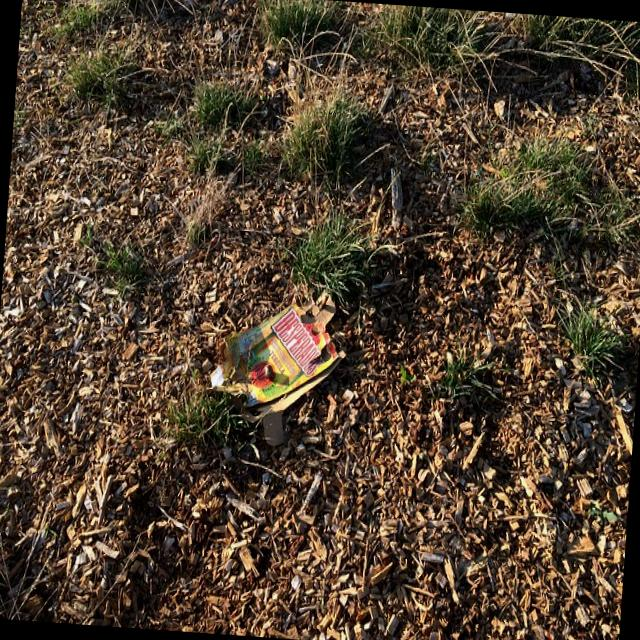Trash: (206, 290, 351, 446)
